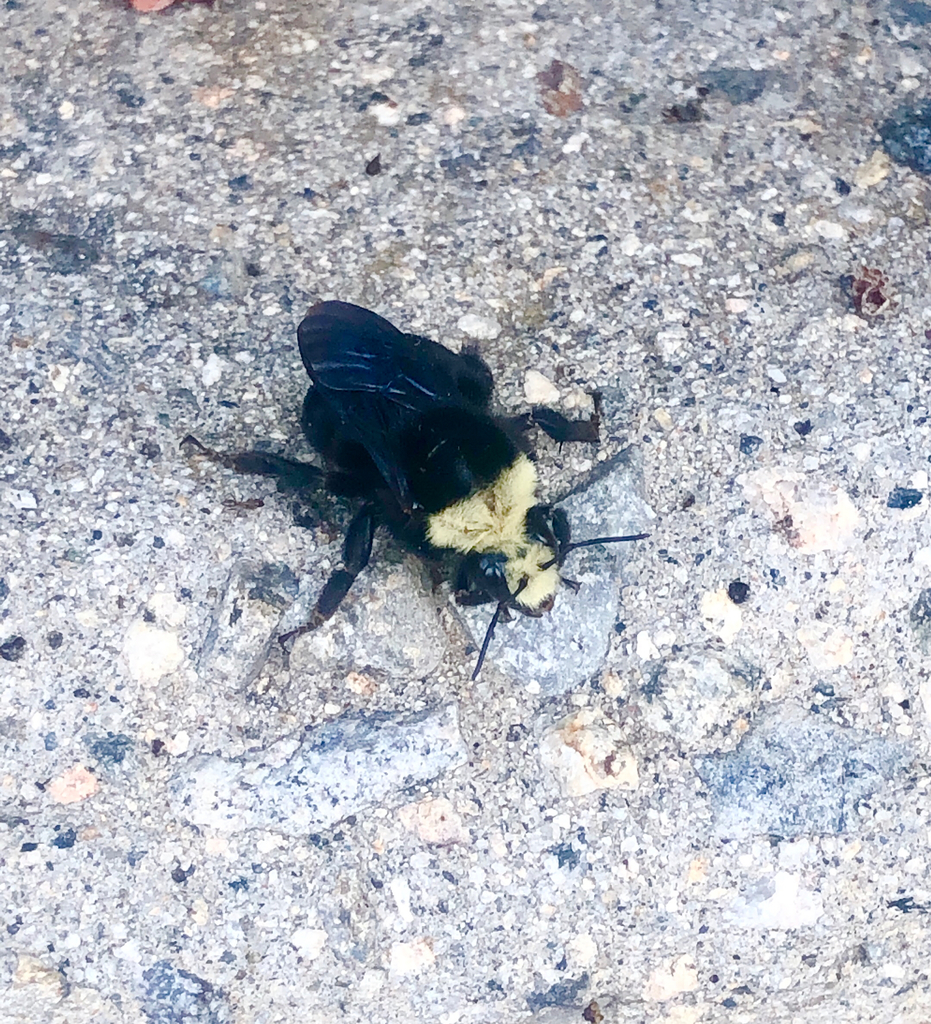bumblebee: (177, 298, 651, 688)
